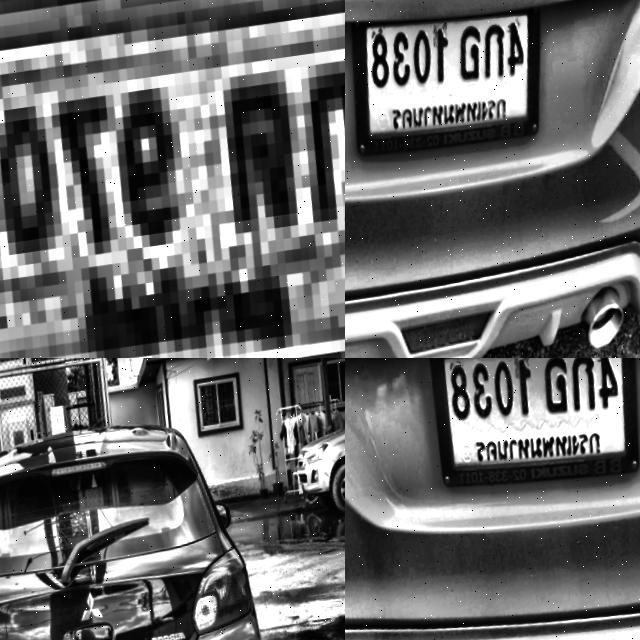license-plate: (0, 0, 345, 358), (345, 0, 561, 162), (421, 358, 640, 504)
